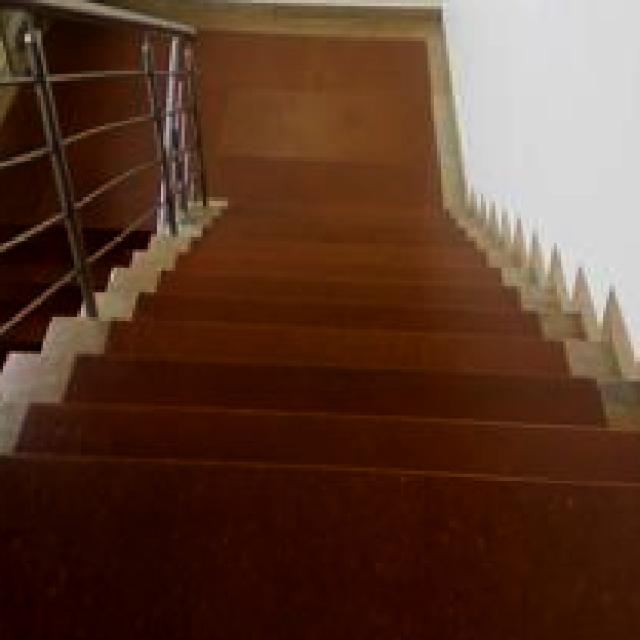downstair: (16, 278, 640, 555)
